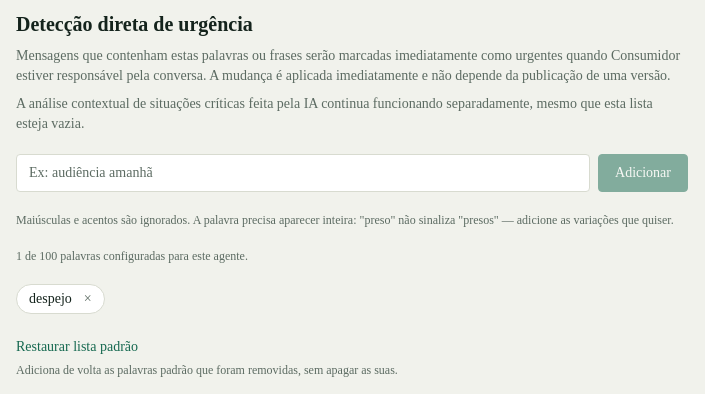
Test case: UrgencyKeywordsPanel › lista, adiciona e remove palavras-chave
Check: the list item "despejo" is shown, box [29,291,72,306]
Check: the text "quando Consumidor estiver responsável" is shown, box [16,46,688,86]
Type "liminar" into the field with placeholder "Ex: audiência amanhã" at (303, 173), box [16,154,590,192]
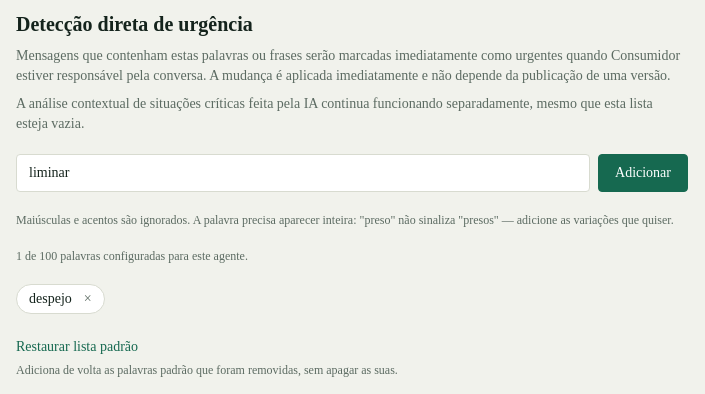
Click the button "Adicionar" at (643, 173), box [598,154,688,192]
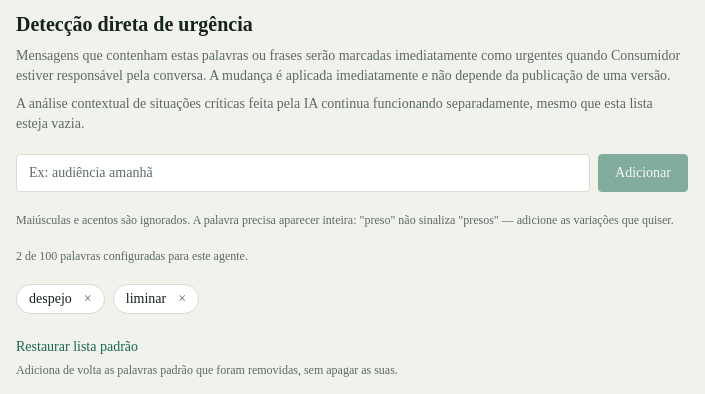
Check: the list item "liminar" is shown, box [126,291,166,306]
Click the button named "Remover despejo" at (88, 299), box [78,289,98,309]
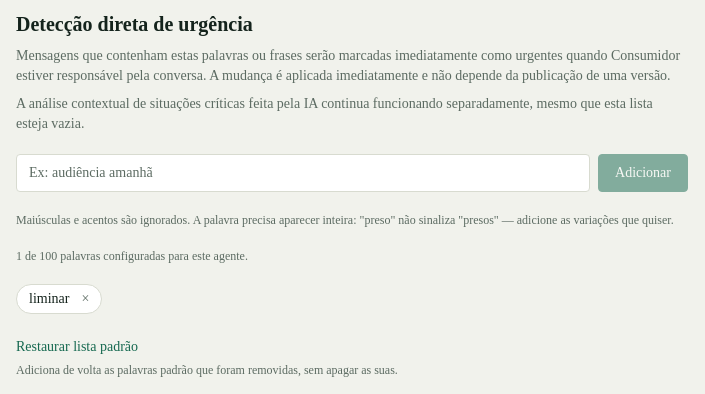
Check: the list item "despejo" is gone
